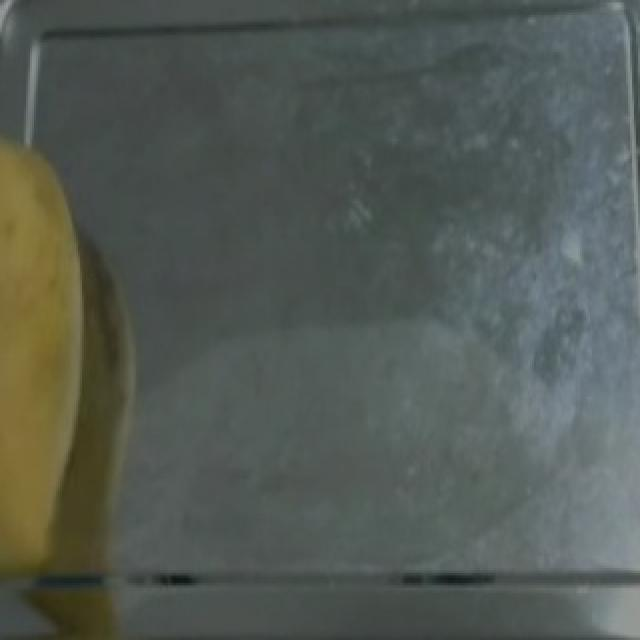fruit: (0, 121, 104, 432)
